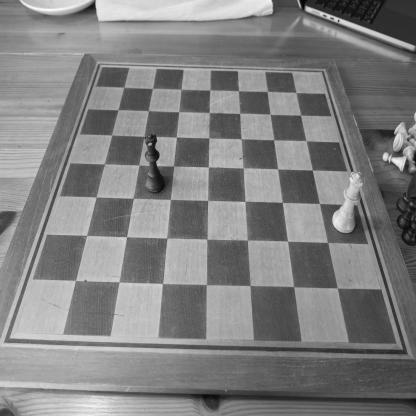black-pawn: (396, 200, 416, 231)
black-queen: (144, 133, 165, 194)
white-pawn: (382, 152, 408, 172), (402, 146, 416, 176)
white-queen: (331, 171, 366, 235)
